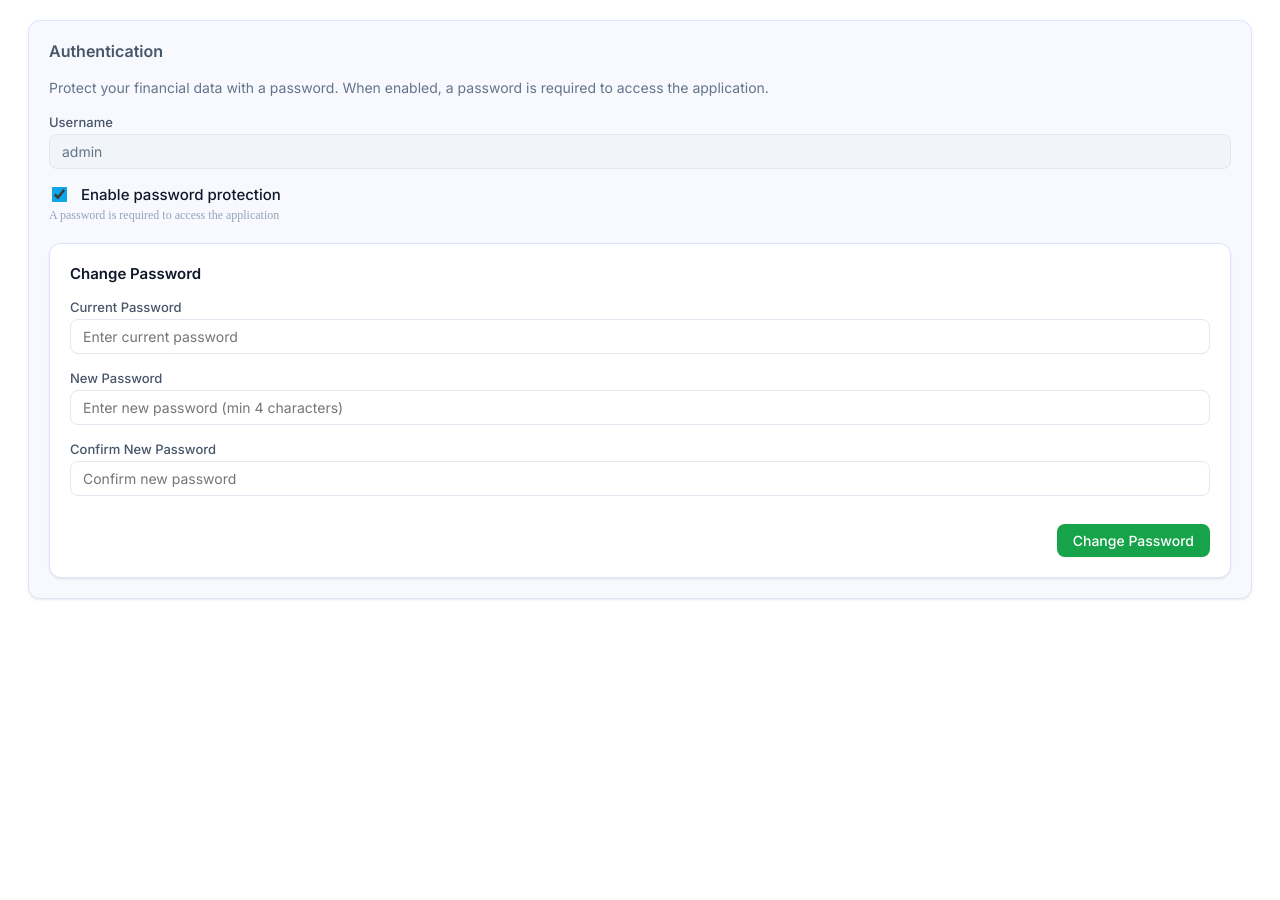
Test case: SecuritySettings › Change password (Password_Gate active, toggle stays ON) › should validate all fields on change password
Click the button "Change Password" at (1133, 540), box [1057,524,1210,557]
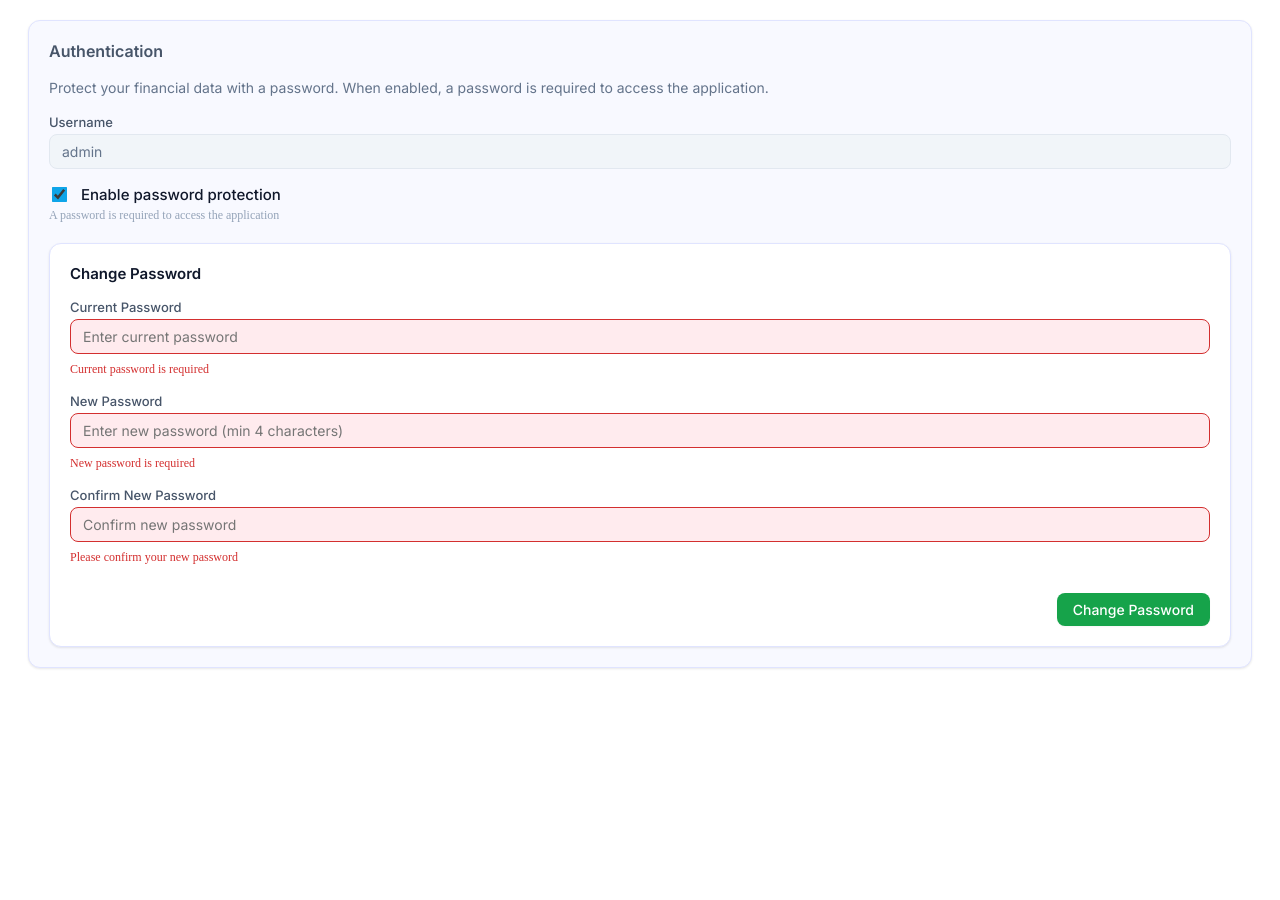
Now the text "Current password is required" is shown, box [70,362,209,376]
Now the text "New password is required" is shown, box [70,456,195,470]
